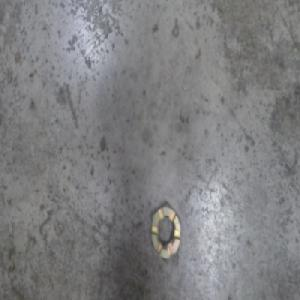Nut: (150, 200, 181, 262)
